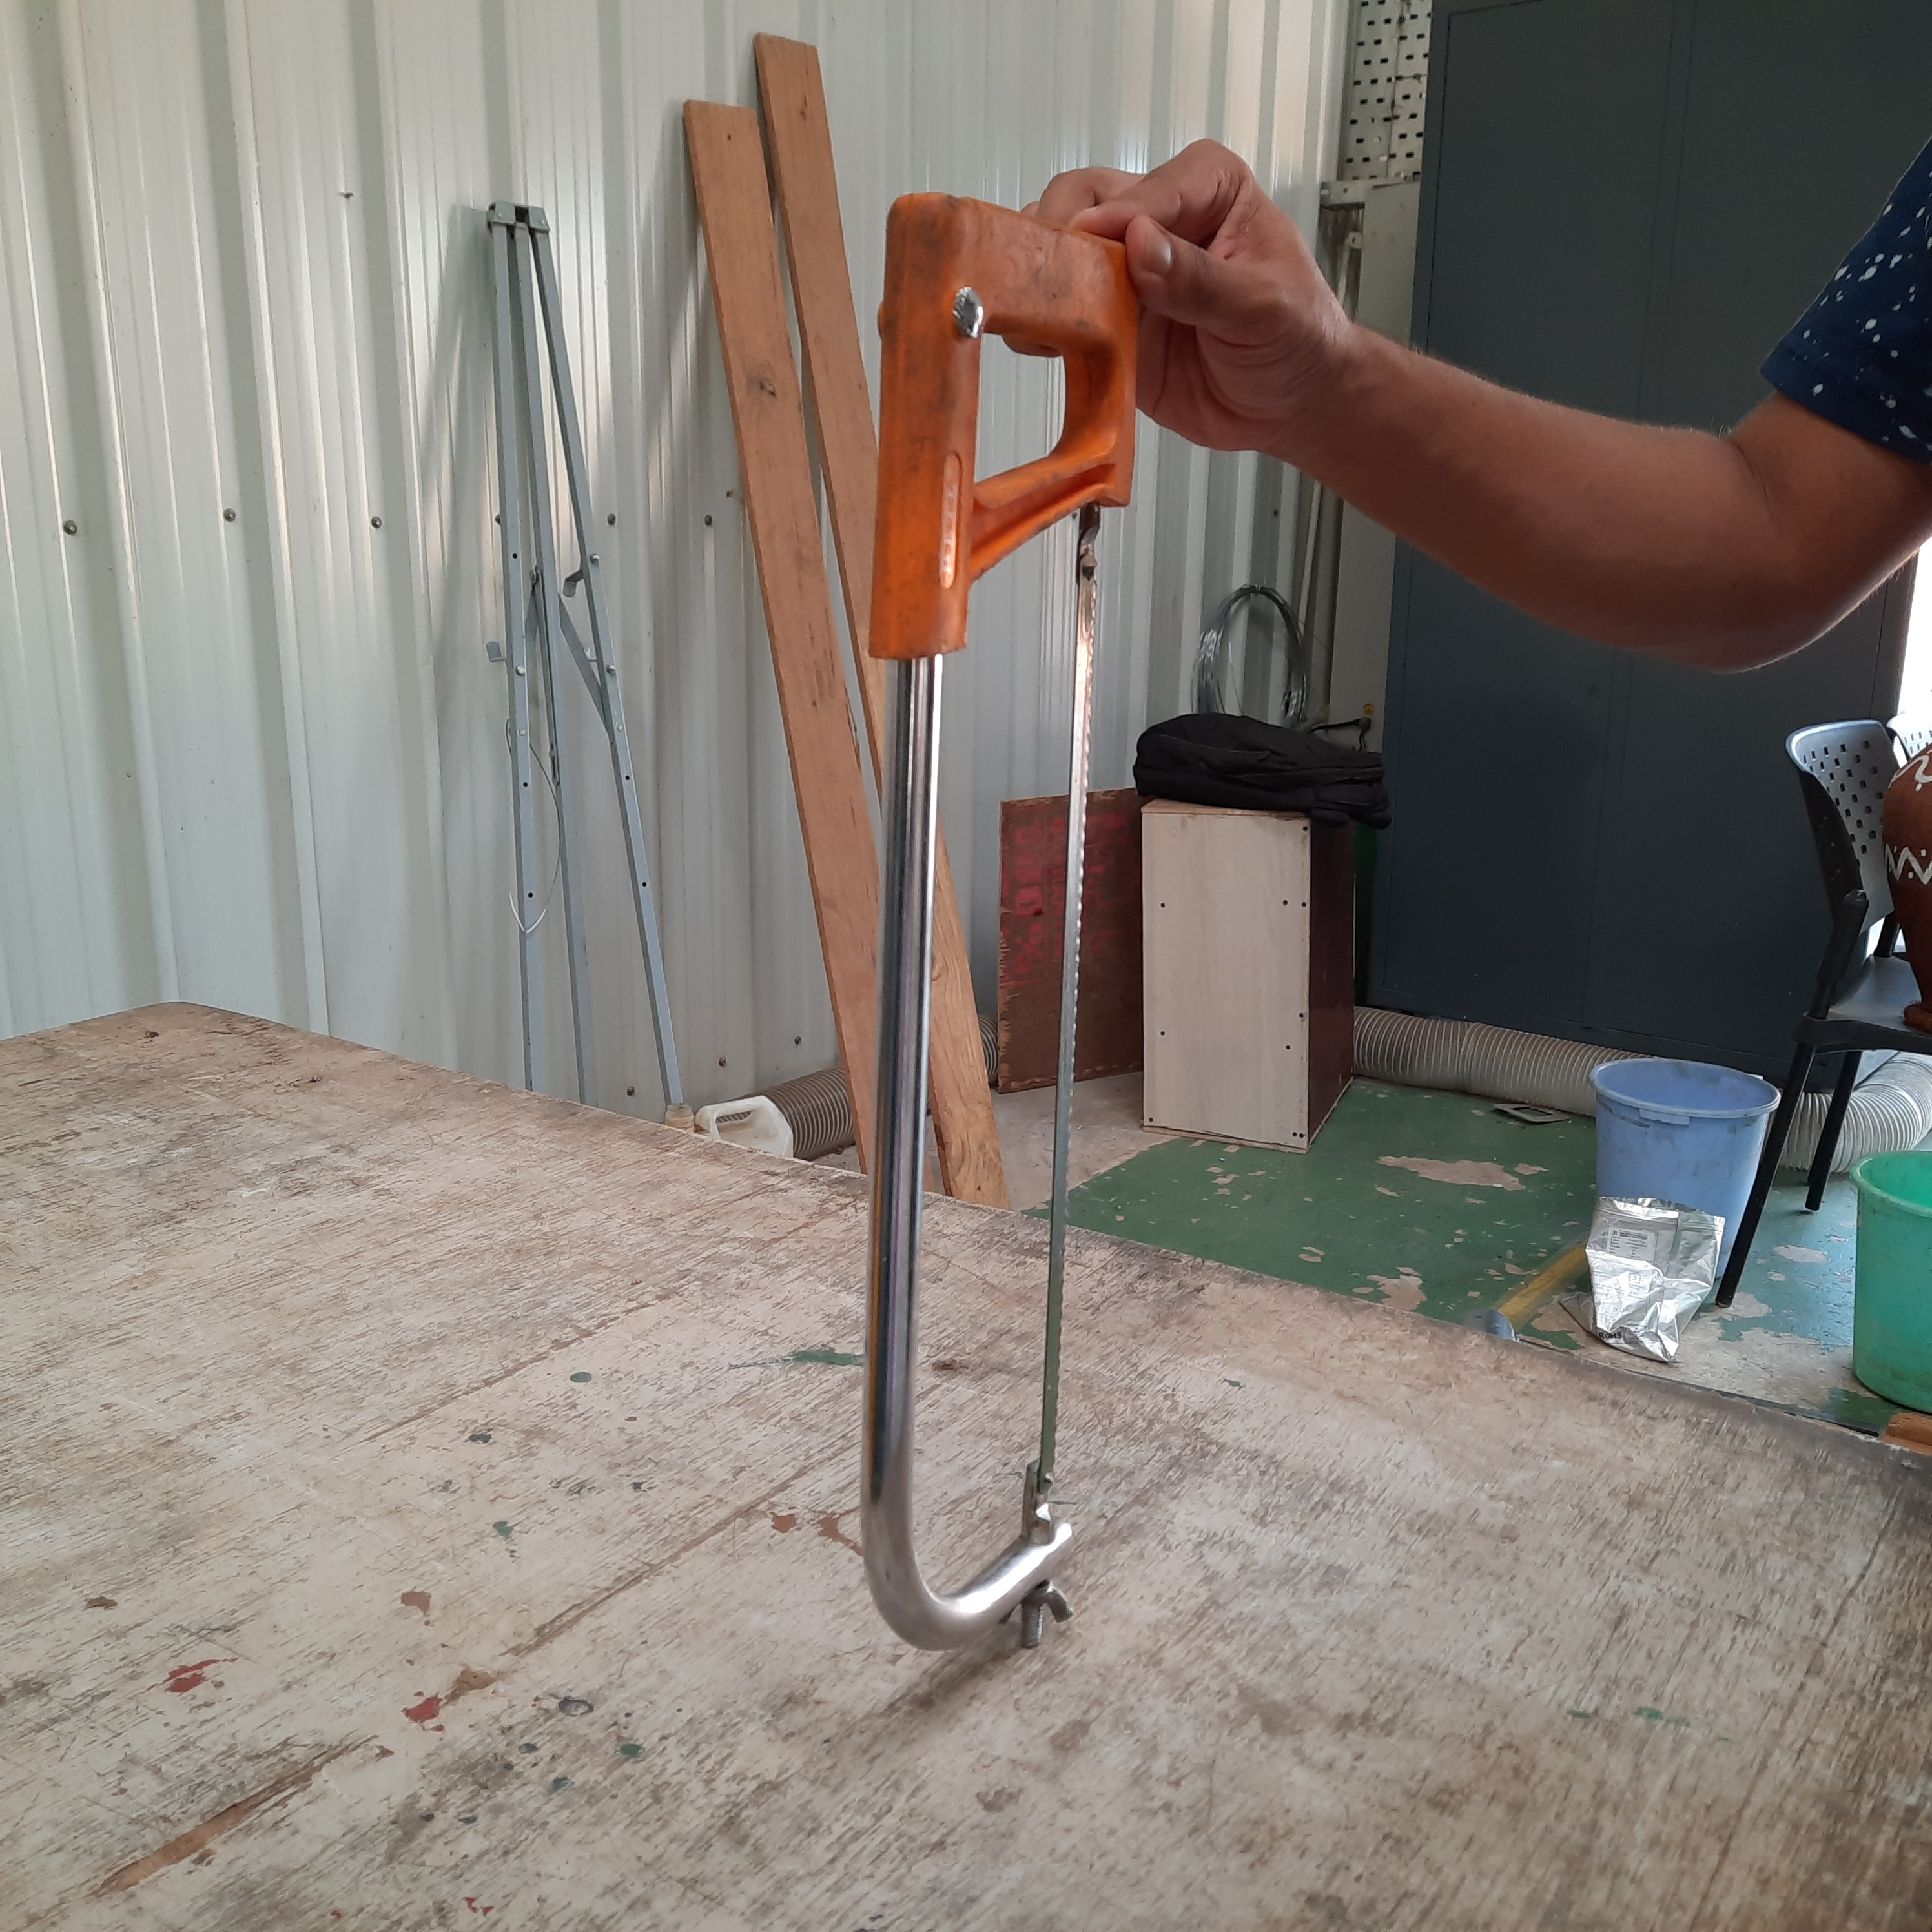Hexaframe: (853, 184, 1136, 1684)
